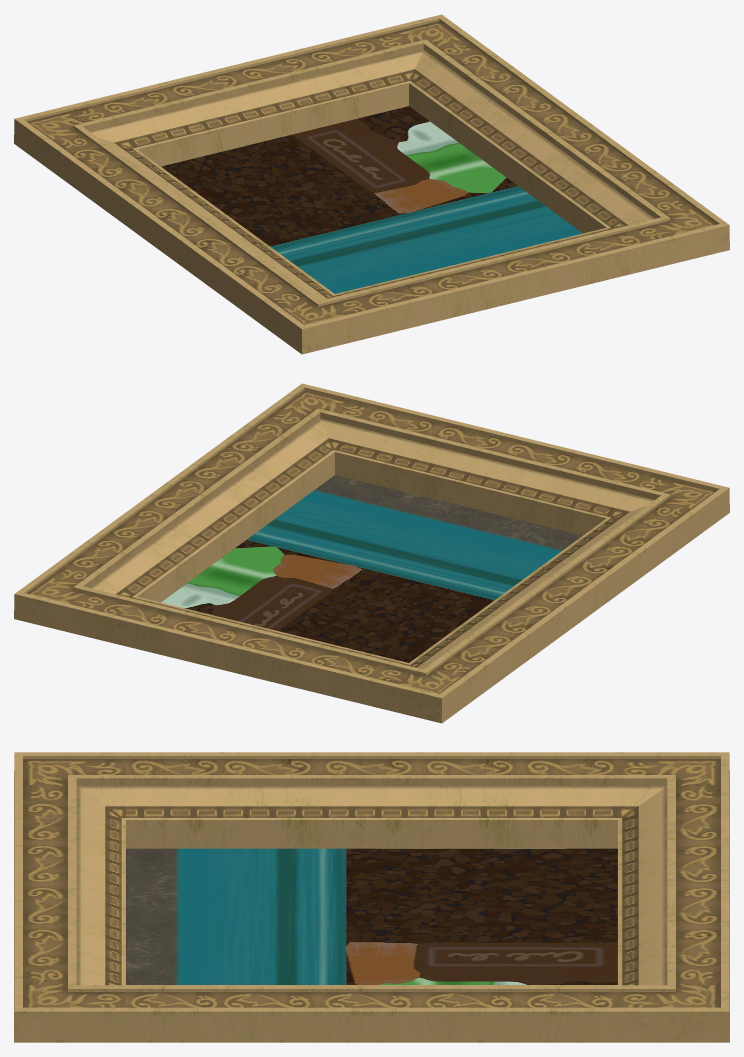
Rendered from art35.fbx.
3 renders of one model, top to bottom at view 1: azimuth 30°, elevation 25°; view 2: azimuth 150°, elevation 25°; view 3: azimuth 270°, elevation 25°, orthographic. The views are drawn at different scales.
Parts seen in each view (by area): view 1: FrameGold0_low__mFrameGold0.003, Sunflower__mBody; view 2: FrameGold0_low__mFrameGold0.003, Sunflower__mBody; view 3: FrameGold0_low__mFrameGold0.003, Sunflower__mBody.
Boxes of the visible parts, box(x1,y1,x2,y2) form: FrameGold0_low__mFrameGold0.003: box(14, 14, 729, 354); Sunflower__mBody: box(161, 106, 582, 293); FrameGold0_low__mFrameGold0.003: box(14, 383, 729, 723); Sunflower__mBody: box(161, 475, 582, 662); FrameGold0_low__mFrameGold0.003: box(14, 752, 729, 1042); Sunflower__mBody: box(126, 848, 617, 984).
Size of the model in its own units: 312 by 35.8 by 364.
